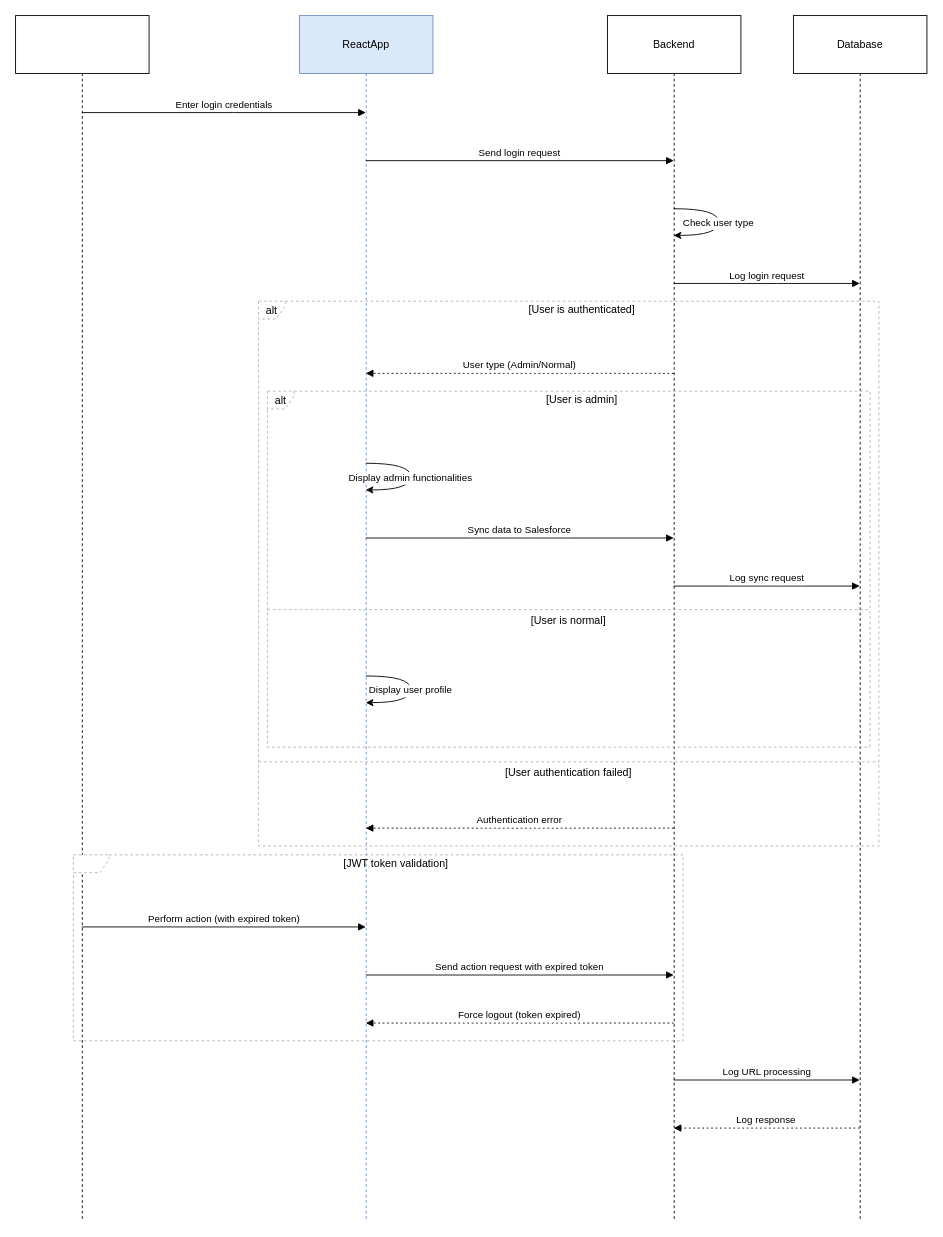
The diagram is 943 pixels wide and 1237 high, and some of its shapes have lost their labels. Each missing label, with the box of its shape:
loop: (73, 854, 683, 1041)
User: (15, 15, 149, 1222)
